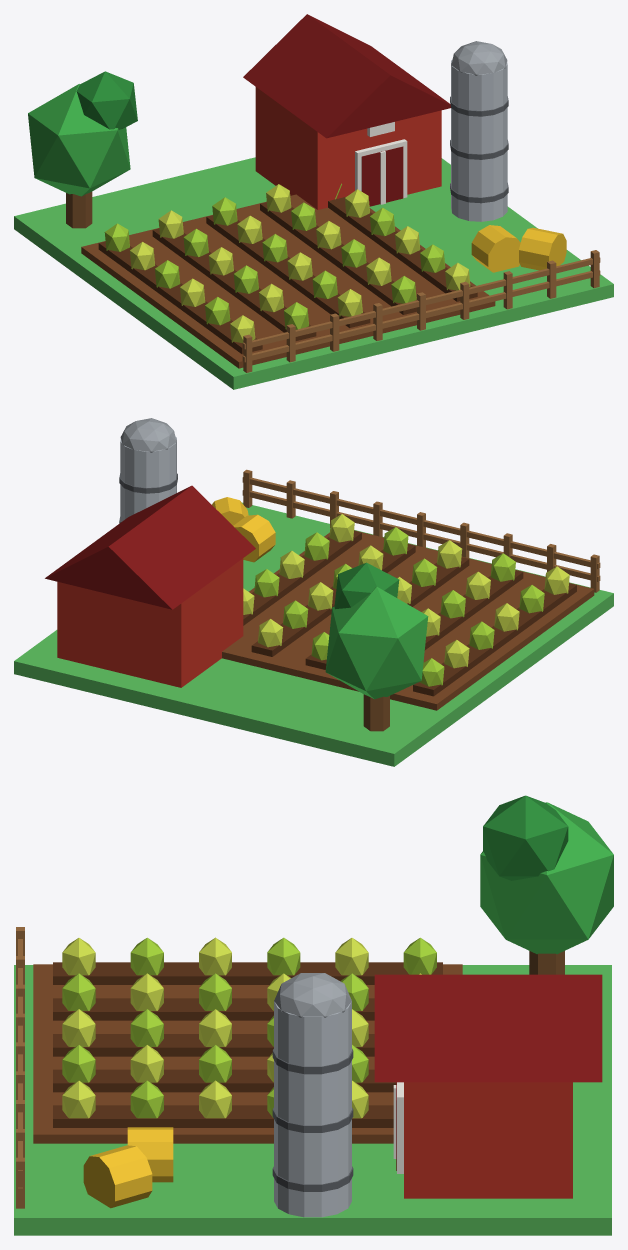
File: sc-farm-BL3M7zCN.glb
The picture shows the model from 3 angles, top to bottom: view 1: azimuth 30°, elevation 25°; view 2: azimuth 150°, elevation 25°; view 3: azimuth 270°, elevation 25°; orthographic projection. The views are drawn at different scales.
Parts seen in each view (by area): view 1: sc-farm; view 2: sc-farm; view 3: sc-farm.
Part boxes in pixels (box(x1,y1,x2,y2)): sc-farm: box(14, 14, 613, 389); sc-farm: box(14, 418, 613, 766); sc-farm: box(14, 795, 613, 1235).
Bounding box in the file's own units: 0.9287 × 0.412 × 0.9229.
